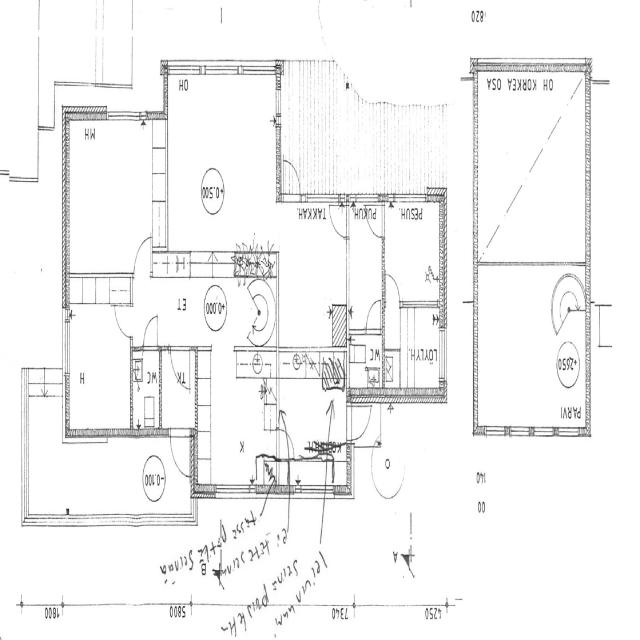door: (167, 427, 193, 482), (166, 342, 193, 392), (349, 395, 374, 443), (130, 230, 153, 280), (279, 156, 301, 201), (141, 310, 161, 354), (325, 200, 347, 240), (112, 302, 133, 342), (365, 200, 385, 240), (382, 268, 403, 306), (363, 295, 383, 334)
window: (192, 54, 266, 84), (480, 416, 547, 448), (209, 476, 253, 506), (270, 81, 283, 133), (392, 185, 428, 203), (438, 326, 448, 384)
zone: (472, 62, 590, 268), (471, 261, 586, 434), (162, 73, 280, 241), (62, 114, 164, 278), (194, 356, 282, 488), (279, 195, 348, 359), (63, 283, 130, 442), (381, 194, 445, 305), (0, 2, 38, 184), (278, 366, 349, 457), (384, 304, 445, 401), (346, 199, 380, 340), (162, 338, 195, 436), (100, 0, 133, 89), (130, 345, 162, 435), (346, 331, 384, 400), (286, 462, 332, 503)
